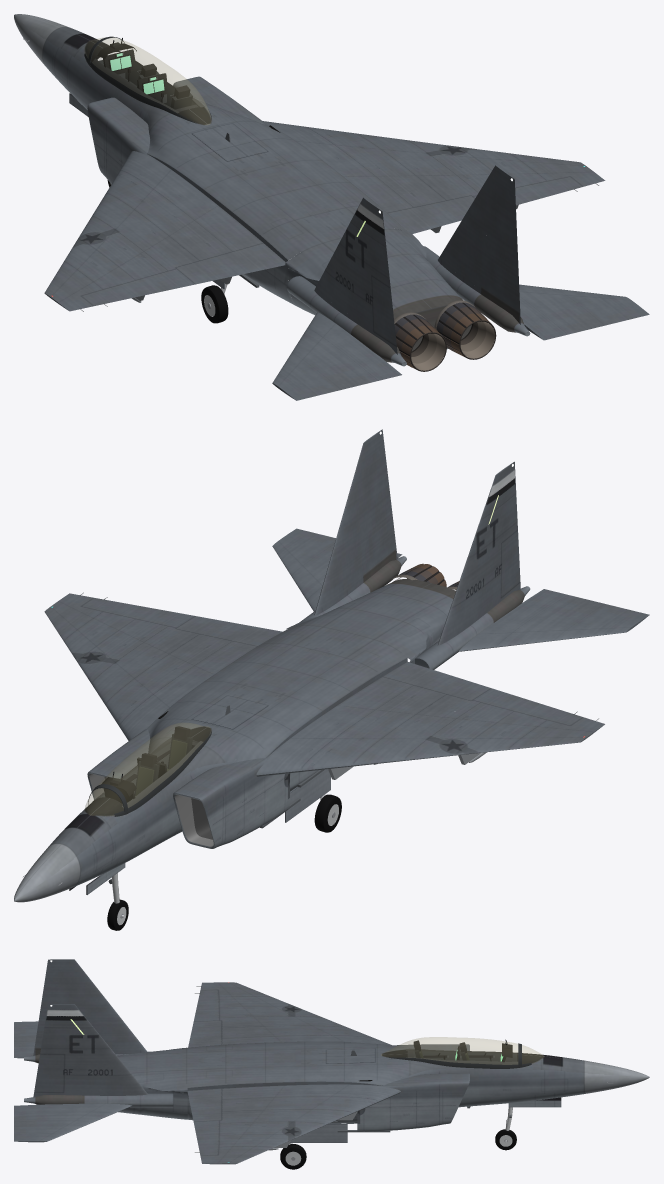
3 views of the same model, one above another, from view 1: azimuth 30°, elevation 25°; view 2: azimuth 150°, elevation 25°; view 3: azimuth 270°, elevation 25° (orthographic). The views are drawn at different scales.
Visible parts, largest first — view 1: fuselage, stab_L, nozzle, canopy, stab_R, cockpit, flap_L, flap_R, ail_L, sb_dorsal, rudder_R, rudder_L (+2 smaller); view 2: fuselage, stab_L, canopy, cockpit, stab_R, flap_L, flap_R, ail_L, ail_R, sb_dorsal, rudder_R, door_main_L (+4 smaller); view 3: fuselage, canopy, stab_R, cockpit, rudder_R, flap_R, flap_L, ail_R, stab_L, door_main_R, ail_L, sb_dorsal (+3 smaller).
Boxes of the visible parts, x1=… form: fuselage: x1=14, y1=14, x2=605, y2=366; stab_L: x1=272, y1=312, x2=401, y2=400; nozzle: x1=394, y1=300, x2=496, y2=371; canopy: x1=84, y1=37, x2=211, y2=124; stab_R: x1=519, y1=284, x2=649, y2=340; cockpit: x1=92, y1=38, x2=204, y2=113; flap_L: x1=176, y1=243, x2=285, y2=284; flap_R: x1=387, y1=195, x2=474, y2=233; ail_L: x1=81, y1=268, x2=195, y2=305; sb_dorsal: x1=192, y1=123, x2=267, y2=161; rudder_R: x1=497, y1=244, x2=520, y2=315; rudder_L: x1=371, y1=276, x2=396, y2=346; fuselage: x1=14, y1=429, x2=604, y2=902; stab_L: x1=458, y1=589, x2=649, y2=651; canopy: x1=84, y1=723, x2=211, y2=815; cockpit: x1=92, y1=726, x2=203, y2=808; stab_R: x1=272, y1=528, x2=402, y2=611; flap_L: x1=383, y1=662, x2=490, y2=700; flap_R: x1=176, y1=616, x2=282, y2=646; ail_L: x1=473, y1=688, x2=582, y2=725; ail_R: x1=81, y1=598, x2=194, y2=627; sb_dorsal: x1=192, y1=695, x2=268, y2=729; rudder_R: x1=374, y1=499, x2=396, y2=567; door_main_L: x1=285, y1=769, x2=330, y2=822; fuselage: x1=24, y1=959, x2=649, y2=1164; canopy: x1=381, y1=1037, x2=544, y2=1064; stab_R: x1=14, y1=1103, x2=131, y2=1142; cockpit: x1=406, y1=1039, x2=518, y2=1064; rudder_R: x1=34, y1=1054, x2=64, y2=1092; flap_R: x1=187, y1=1088, x2=221, y2=1121; flap_L: x1=188, y1=1020, x2=221, y2=1047; ail_R: x1=193, y1=1120, x2=219, y2=1155; stab_L: x1=14, y1=1021, x2=38, y2=1058; door_main_R: x1=290, y1=1123, x2=347, y2=1142; ail_L: x1=193, y1=990, x2=219, y2=1021; sb_dorsal: x1=326, y1=1048, x2=375, y2=1063.
Size of the model in its own units: 13.04 by 5.63 by 19.35.
10 materials, 1 textured.
